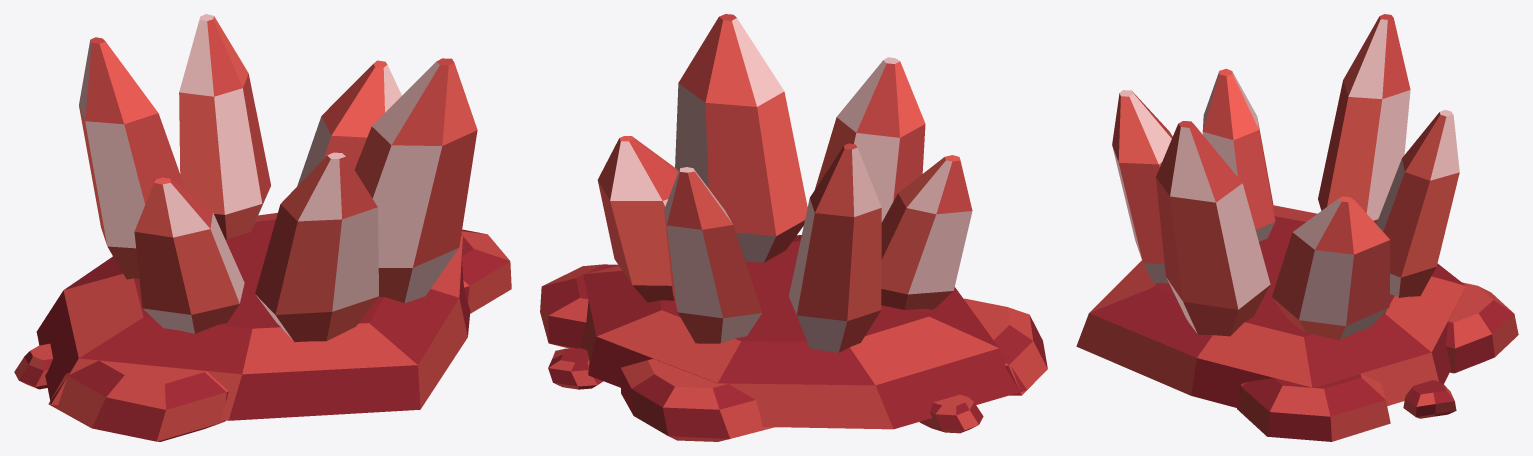
File: BH_ORE_O16_Rubi_de_Magma_V01.glb
The picture shows the model from 3 angles, left to right: view 1: azimuth 30°, elevation 25°; view 2: azimuth 150°, elevation 25°; view 3: azimuth 270°, elevation 25°; orthographic projection. The views are drawn at different scales.
Visible parts, largest first — view 1: Bedrock | primary.001, O16 | shard 3.001, O16 | shard 2.001, O16 | shard 5.001, O16 | shard 6.001, O16 | shard 1.001, Bedrock | shoulder 1.001, O16 | shard 4.001, Bedrock | shoulder 2.001, Loose chip 2.001; view 2: Bedrock | primary.001, O16 | shard 3.001, O16 | shard 6.001, O16 | shard 5.001, O16 | shard 1.001, O16 | shard 4.001, O16 | shard 2.001, Bedrock | shoulder 3.001, Bedrock | shoulder 1.001, Bedrock | shoulder 2.001, Loose chip 2.001, Loose chip 1.001; view 3: Bedrock | primary.001, O16 | shard 3.001, O16 | shard 4.001, O16 | shard 6.001, O16 | shard 5.001, Bedrock | shoulder 2.001, O16 | shard 2.001, O16 | shard 1.001, Bedrock | shoulder 3.001, Loose chip 1.001.
Part boxes in pixels (x1,y1,x2,y2): Bedrock | primary.001: [36, 213, 470, 420]; O16 | shard 3.001: [354, 58, 477, 302]; O16 | shard 2.001: [255, 152, 378, 342]; O16 | shard 5.001: [179, 14, 270, 239]; O16 | shard 6.001: [79, 37, 185, 279]; O16 | shard 1.001: [134, 177, 244, 333]; Bedrock | shoulder 1.001: [48, 360, 228, 441]; O16 | shard 4.001: [297, 60, 401, 186]; Bedrock | shoulder 2.001: [461, 229, 511, 313]; Loose chip 2.001: [14, 343, 52, 389]; Bedrock | primary.001: [580, 235, 1026, 429]; O16 | shard 3.001: [675, 14, 807, 262]; O16 | shard 6.001: [788, 143, 881, 352]; O16 | shard 5.001: [664, 167, 762, 343]; O16 | shard 1.001: [881, 155, 972, 309]; O16 | shard 4.001: [597, 136, 678, 302]; O16 | shard 2.001: [815, 57, 925, 222]; Bedrock | shoulder 3.001: [620, 359, 773, 441]; Bedrock | shoulder 1.001: [964, 298, 1047, 395]; Bedrock | shoulder 2.001: [540, 264, 618, 348]; Loose chip 2.001: [919, 394, 983, 433]; Loose chip 1.001: [548, 348, 603, 389]; Bedrock | primary.001: [1076, 205, 1466, 408]; O16 | shard 3.001: [1156, 121, 1270, 336]; O16 | shard 4.001: [1272, 196, 1390, 340]; O16 | shard 6.001: [1318, 14, 1410, 223]; O16 | shard 5.001: [1376, 110, 1459, 297]; Bedrock | shoulder 2.001: [1237, 374, 1390, 441]; O16 | shard 2.001: [1112, 90, 1172, 283]; O16 | shard 1.001: [1202, 68, 1275, 241]; Bedrock | shoulder 3.001: [1446, 282, 1518, 373]; Loose chip 1.001: [1403, 380, 1456, 418].
Bounding box in the file's own units: 2.55 × 1.54 × 2.22.
